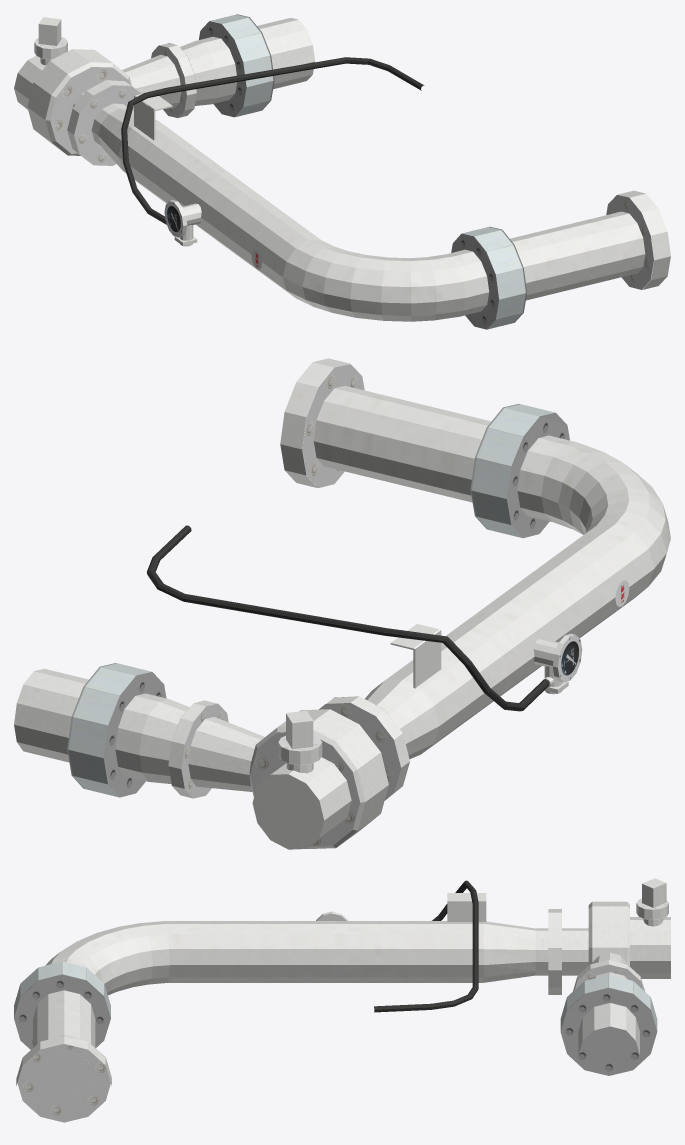
Rendered from peijian114-geode.glb.
3 views of the same model, one above another, from view 1: azimuth 30°, elevation 25°; view 2: azimuth 150°, elevation 25°; view 3: azimuth 270°, elevation 25° (orthographic). The views are drawn at different scales.
Visible parts, largest first — view 1: Node; view 2: Node; view 3: Node.
Part boxes in pixels (<box>): Node: <box>14,14,670,329</box>; Node: <box>14,358,670,849</box>; Node: <box>14,878,670,1122</box>.
Bounding box in the file's own units: 0.9072 × 0.2937 × 1.58.
4 materials, 4 textured.
